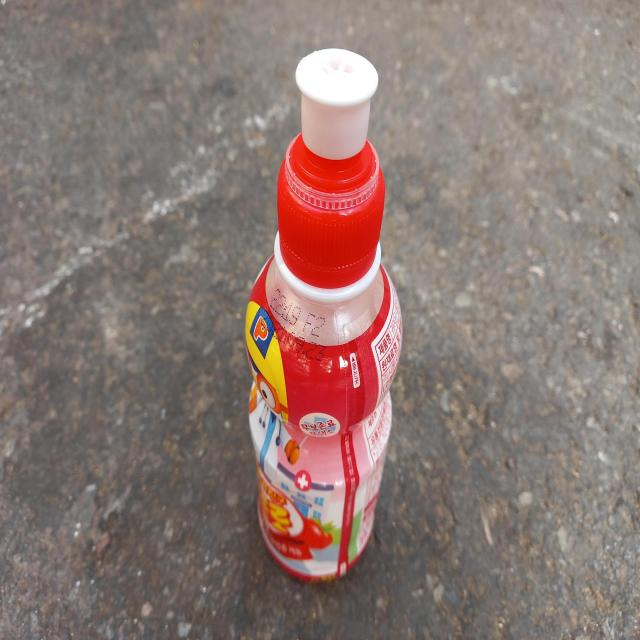plastic: (245, 48, 403, 581)
